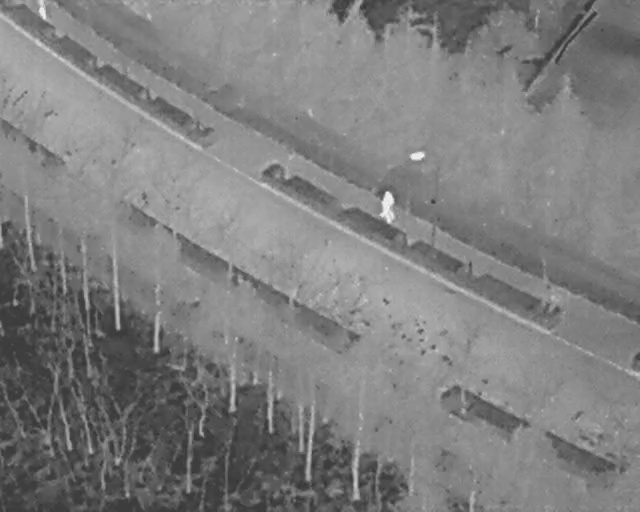Person: (385, 189, 395, 220), (380, 197, 391, 224), (38, 0, 48, 21)
